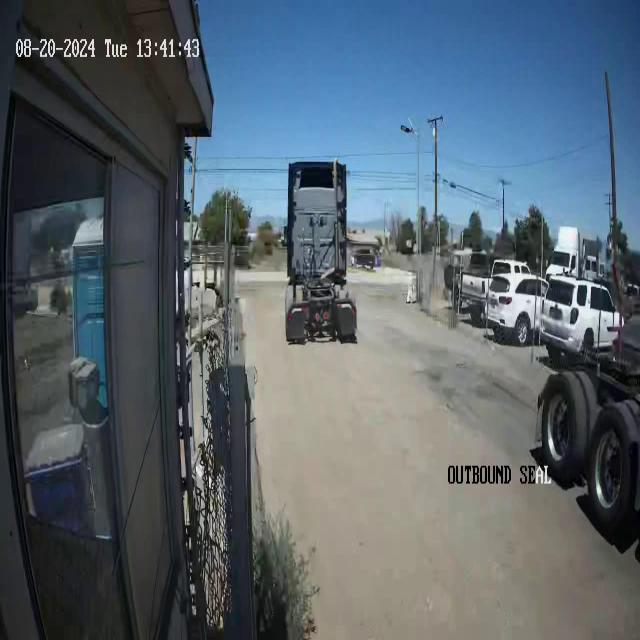BOBTAIL: (538, 333, 640, 558), (280, 158, 358, 344)
